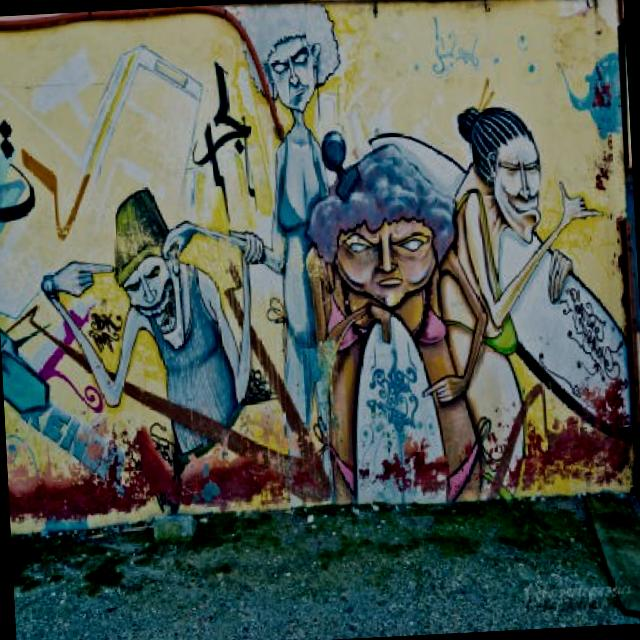Person: (149, 0, 368, 515), (424, 89, 620, 504), (298, 137, 500, 510), (35, 178, 274, 478)
